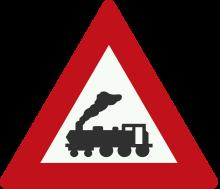Barrier Ahead: (13, 7, 212, 182)
